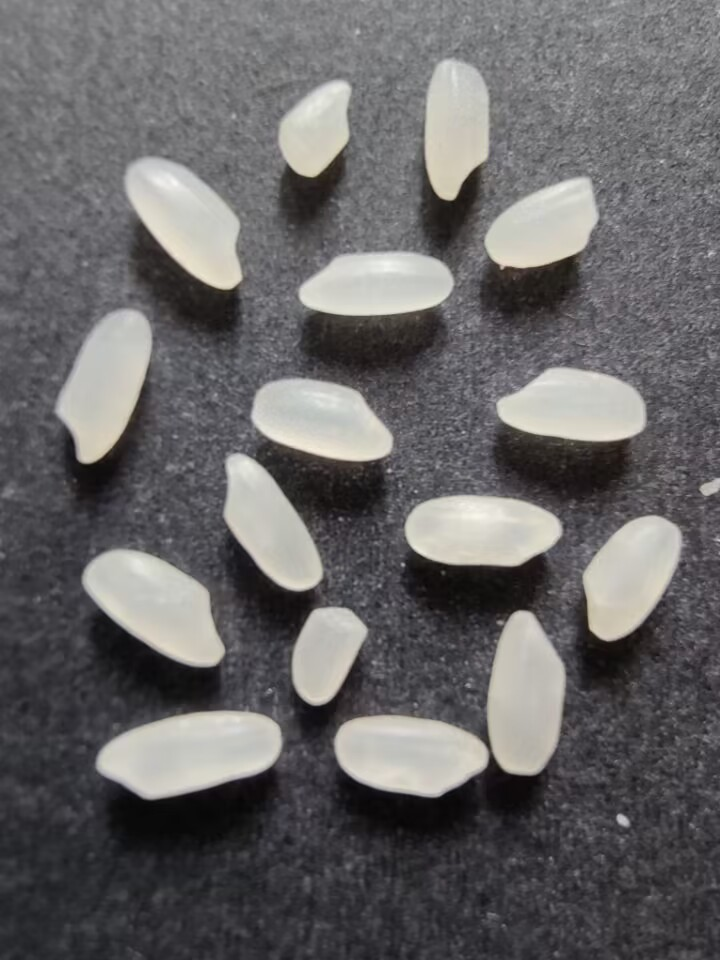broken: (482, 174, 602, 269), (271, 76, 358, 178), (286, 605, 371, 708)
rice: (96, 705, 285, 804), (120, 156, 250, 294), (81, 551, 225, 672), (51, 304, 152, 466), (220, 447, 327, 595), (485, 604, 567, 782), (331, 712, 494, 801), (579, 511, 687, 641), (246, 374, 398, 464), (490, 361, 650, 444), (402, 489, 565, 569), (293, 248, 459, 321), (420, 55, 494, 204)
